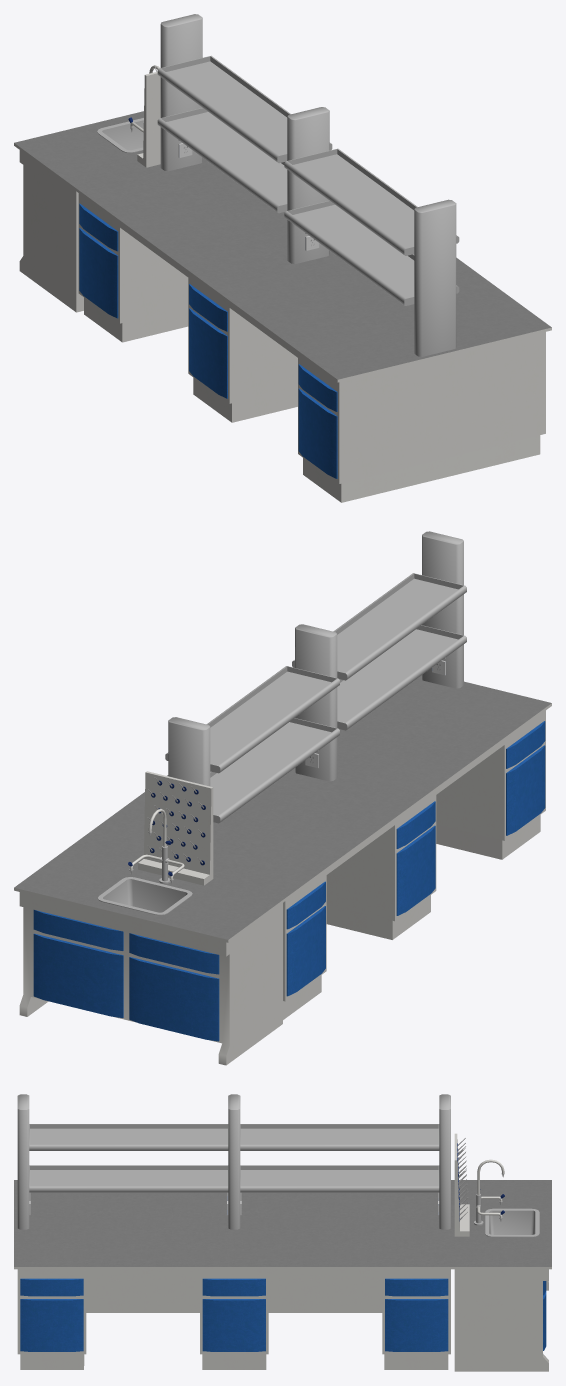
The model's file is SM_ZhuoZi002.fbx.
The picture shows the model from 3 angles, top to bottom: view 1: azimuth 30°, elevation 25°; view 2: azimuth 150°, elevation 25°; view 3: azimuth 270°, elevation 25°; orthographic projection. The views are drawn at different scales.
Parts seen in each view (by area): view 1: SM_ZhuoZi002; view 2: SM_ZhuoZi002; view 3: SM_ZhuoZi002.
Boxes of the visible parts, left/top/right/bottom form: SM_ZhuoZi002: left=14, top=14, right=551, bottom=502; SM_ZhuoZi002: left=14, top=531, right=551, bottom=1065; SM_ZhuoZi002: left=14, top=1094, right=551, bottom=1371.
Bounding box in the file's own units: 1.4 × 1.7 × 3.66.
